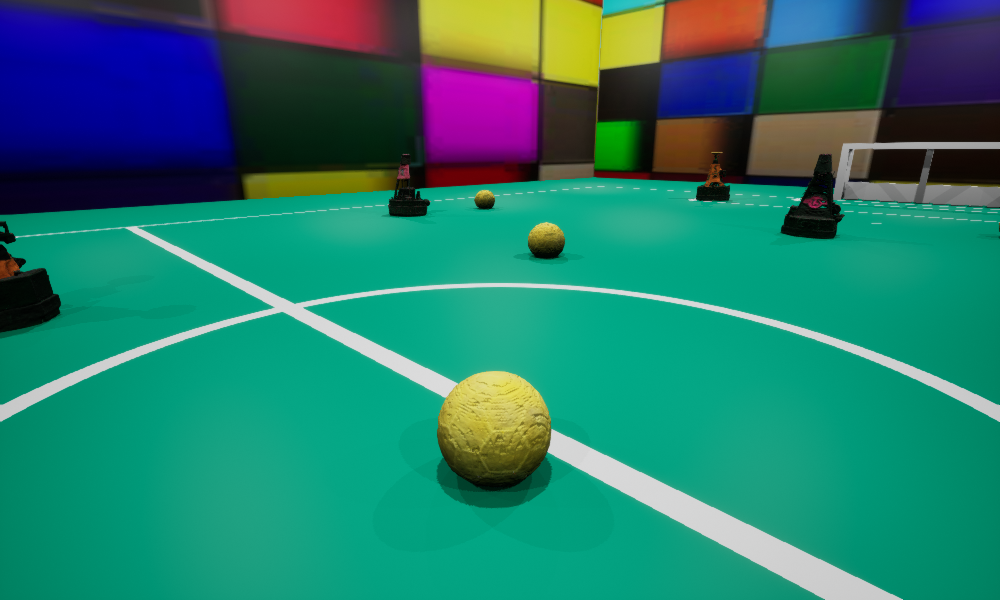b: (437, 371, 550, 487), (528, 222, 564, 257), (474, 190, 494, 208)
o: (0, 221, 60, 332), (696, 152, 729, 200)
p1: (781, 154, 844, 238)
p2: (388, 154, 429, 216)
